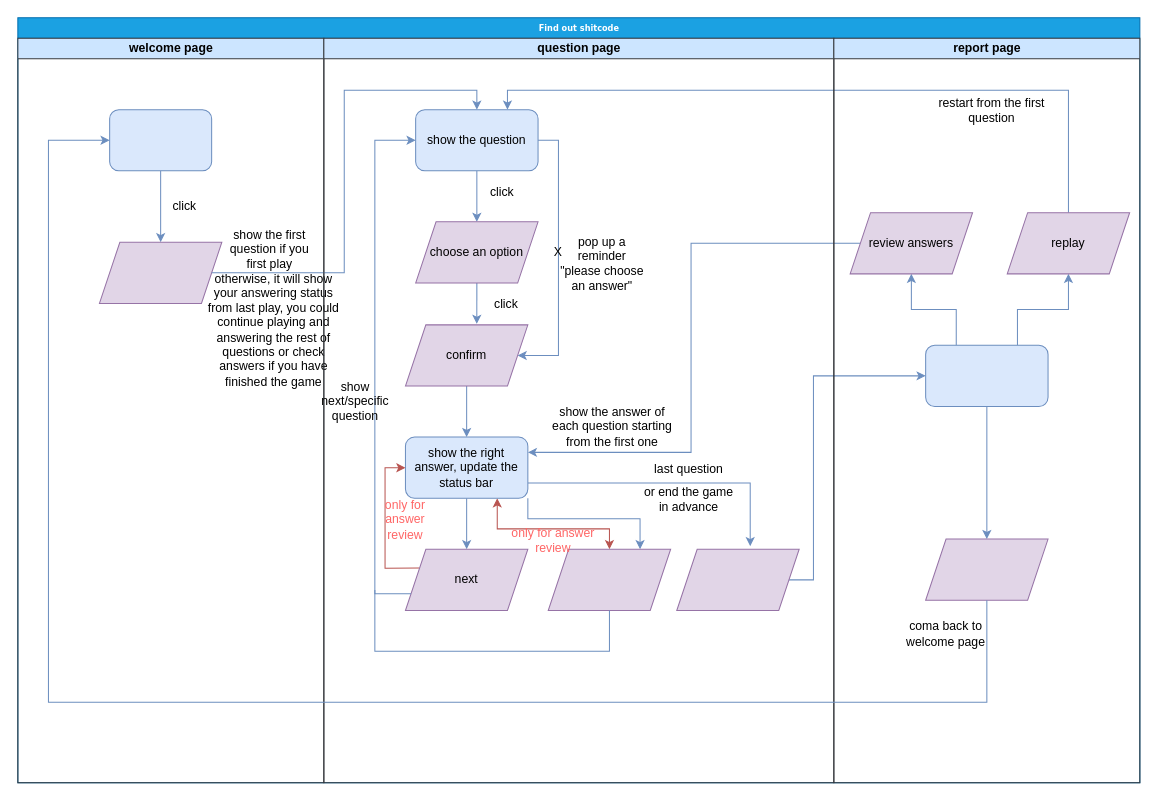
The diagram is 1158 pixels wide and 801 high, and some of its shapes have lost their labels. Here are the shapes that lost their labels. From the top down, the centre of each, then its label:
the point at 160,140: game logo and intro
the point at 160,272: play
the point at 986,375: show the result and performance
the point at 609,579: choose a specific question from navigation bar
the point at 737,579: get report
the point at 986,569: home
